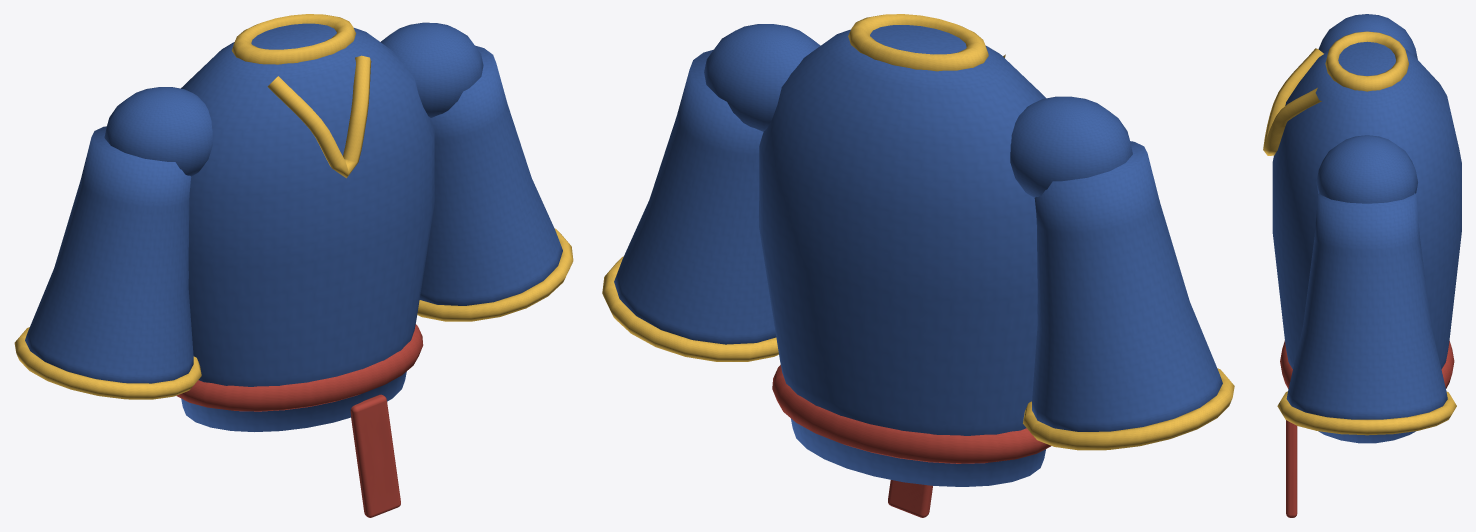
Rendered from platebody_cloth.glb.
3 renders of one model, left to right at view 1: azimuth 30°, elevation 25°; view 2: azimuth 150°, elevation 25°; view 3: azimuth 270°, elevation 25°, orthographic. The views are drawn at different scales.
Parts seen in each view (by area): view 1: torso, sleeve (×2); view 2: torso, sleeve (×2); view 3: torso, sleeve.
Part boxes in pixels (<box>): torso: <box>104,14,483,517</box>; sleeve (×2): <box>14,45,573,399</box>; torso: <box>704,14,1132,517</box>; sleeve (×2): <box>602,49,1234,450</box>; torso: <box>1263,14,1461,517</box>; sleeve: <box>1277,193,1456,435</box>.
Size of the model in its own units: 0.7709 by 0.6409 by 0.2634.
3 materials, 3 textured.
